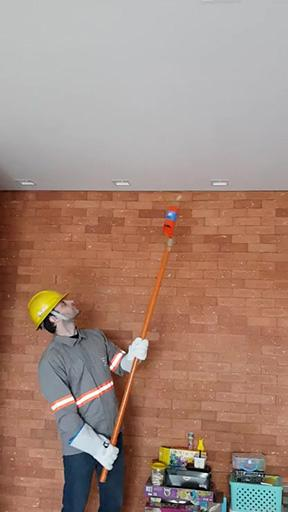Detector_Tensao_Contato: (101, 238, 171, 484), (161, 200, 181, 240)
